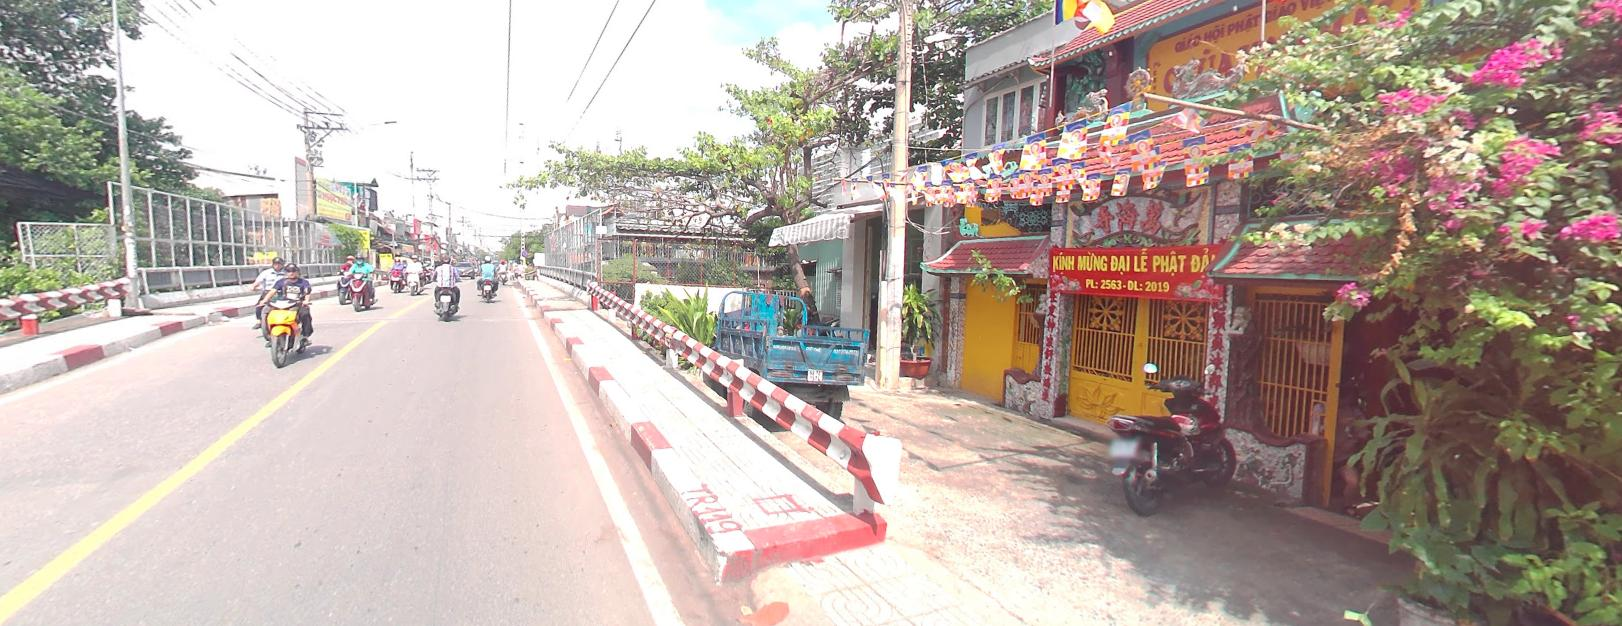Cam dung va do: (521, 249, 527, 255)
